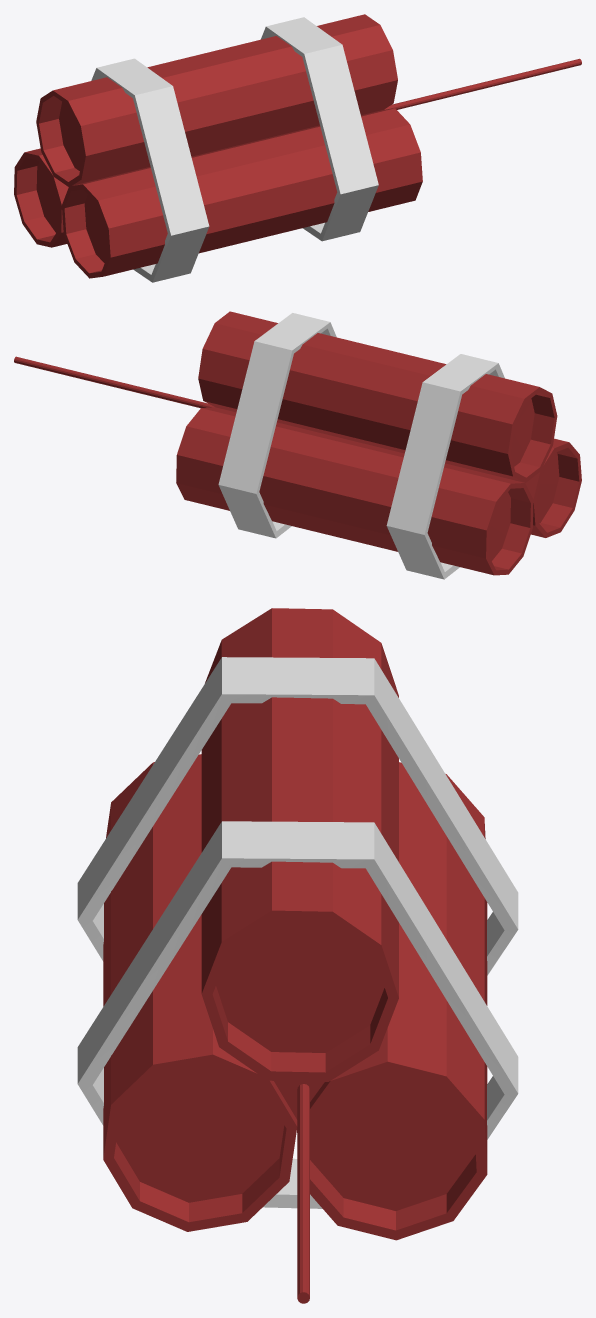
The model's file is Dynamite_proxy.fbx.
3 views of the same model, one above another, from view 1: azimuth 30°, elevation 25°; view 2: azimuth 150°, elevation 25°; view 3: azimuth 270°, elevation 25° (orthographic). The views are drawn at different scales.
Parts seen in each view (by area): view 1: Dynamite; view 2: Dynamite; view 3: Dynamite.
Boxes of the visible parts, left/top/right/bottom form: Dynamite: left=14, top=14, right=581, bottom=282; Dynamite: left=14, top=311, right=581, bottom=579; Dynamite: left=77, top=608, right=518, bottom=1303.
Bounding box in the file's own units: 0.475 × 0.1554 × 0.1755.
